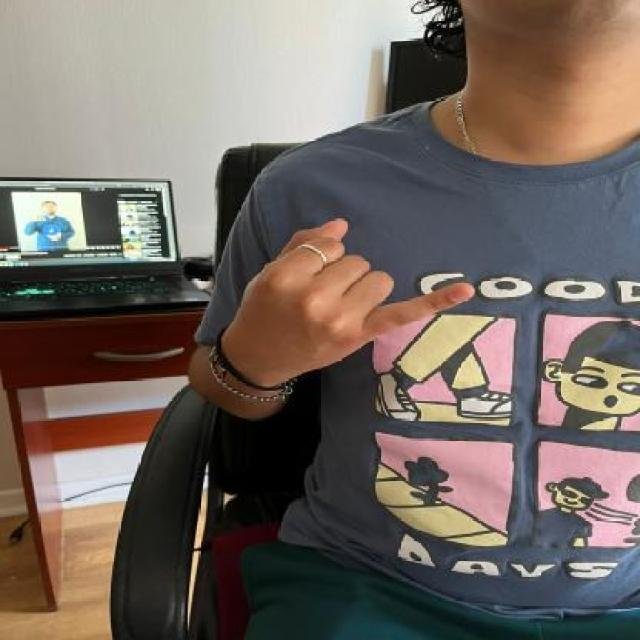J: (236, 216, 478, 384)
